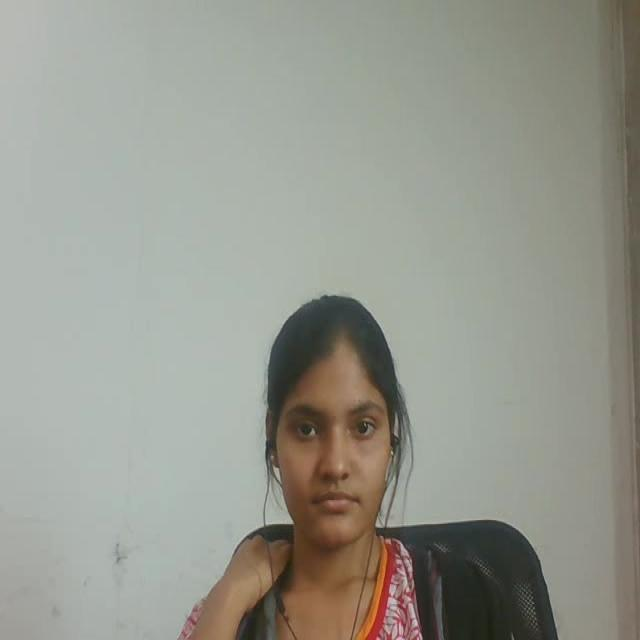Engaged: (234, 257, 418, 579)
